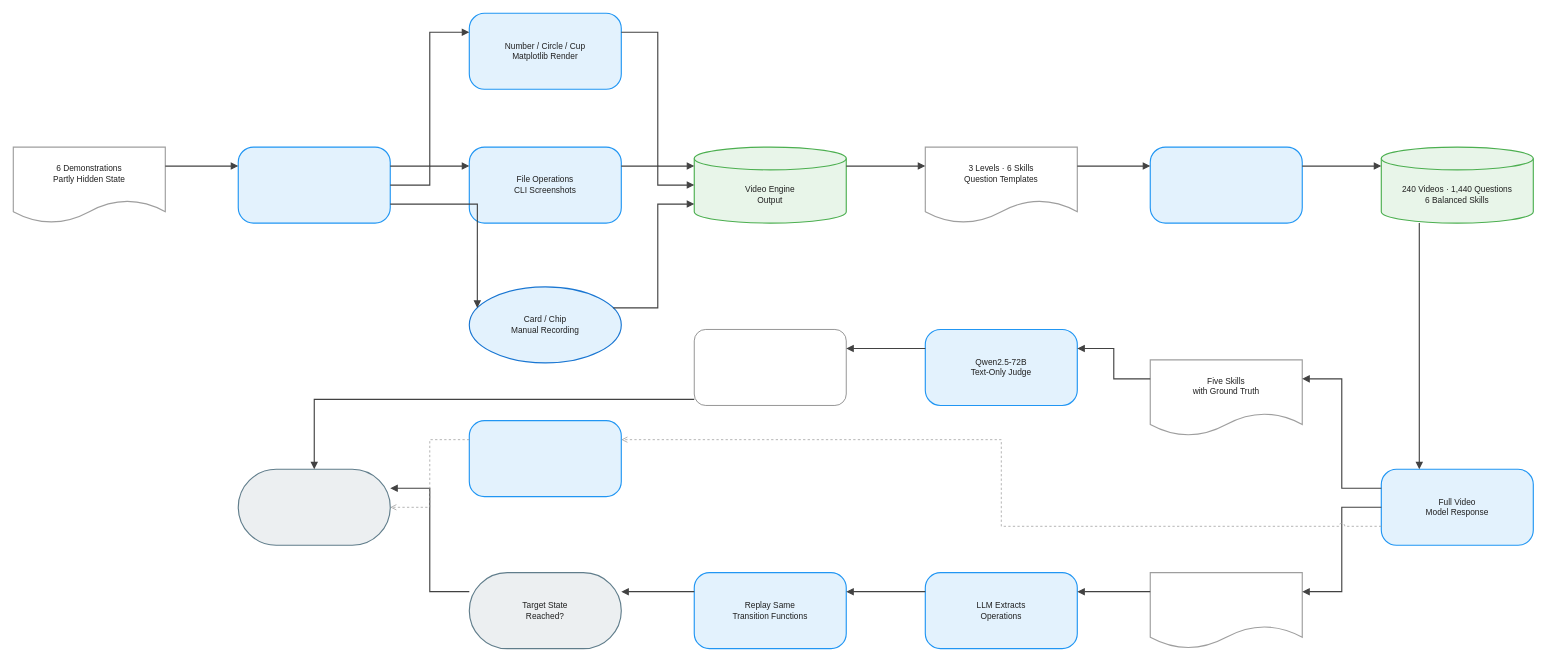
Image size: 1547x663. Some labels were removed from this diagram. The shapes that lost their labels are listed below. From the top down, each one's centre as x and y in pixels, then its label:
At (313,184): "Initial State + 5–14 Ops Exact Transition Trace".
At (1225,184): "Rule-Derived Answers".
At (770,367): "Level 1 / 2 / 3 Accuracy".
At (545,458): "Thinking Budget · Vision State Size · Op Count".
At (313,507): "Skill + Level Accuracy Analysis Report".
At (1225,610): "Predict Operation No Unique GT".
